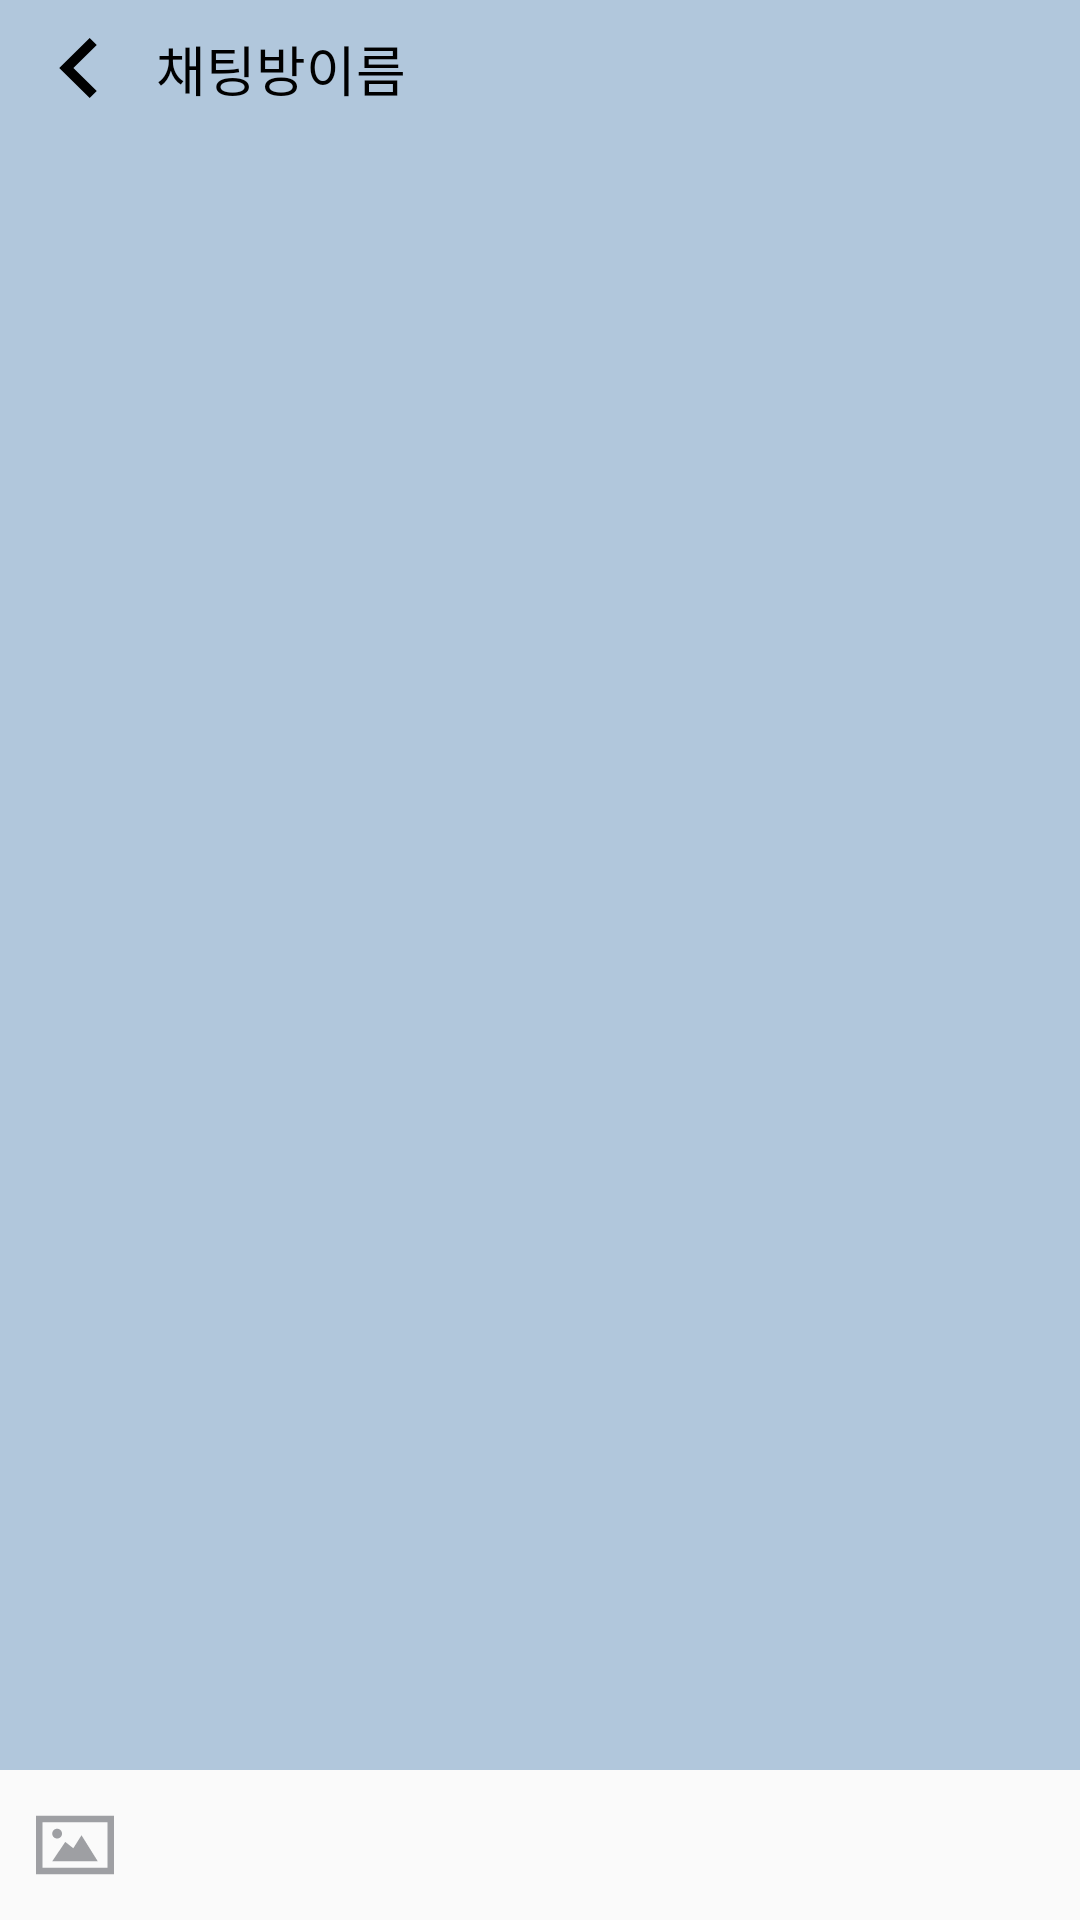

Point at icon controls on the screen. Image size 1080px×1920px, points as point (x, y).
back arrow: point (78, 68)
